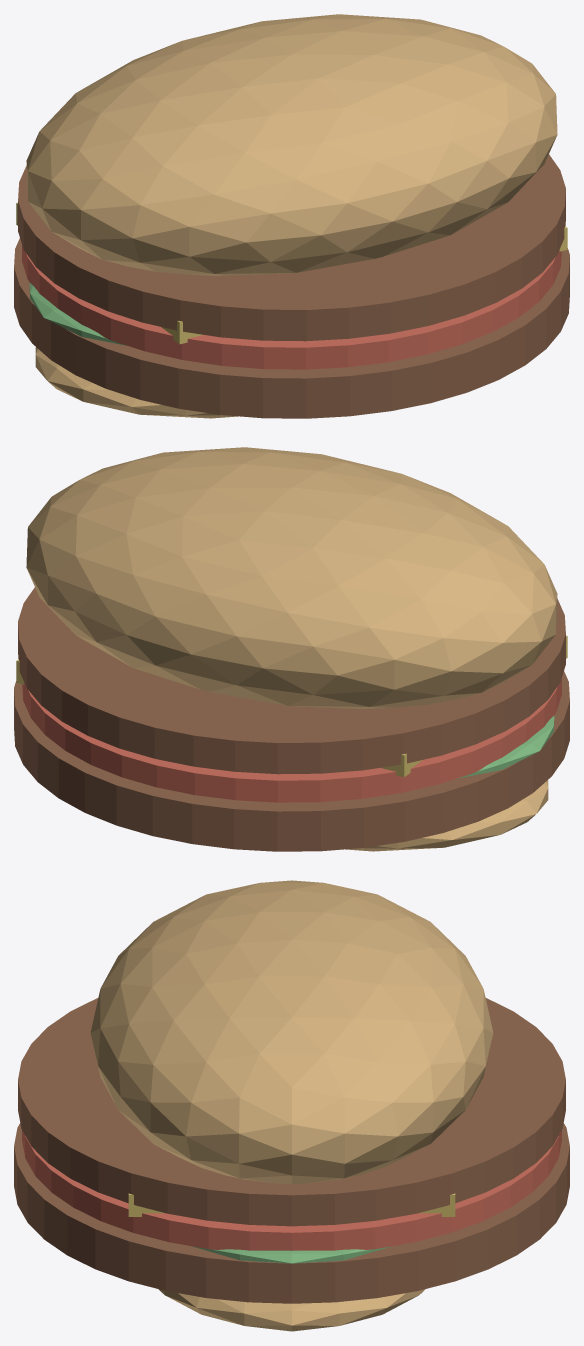
File: burger.glb
3 views of the same model, one above another, from view 1: azimuth 30°, elevation 25°; view 2: azimuth 150°, elevation 25°; view 3: azimuth 270°, elevation 25° (orthographic).
Parts seen in each view (by area): view 1: burger_06, burger_05, burger_01, burger_03, burger_00, burger_02, burger_04; view 2: burger_06, burger_05, burger_01, burger_03, burger_00, burger_02, burger_04; view 3: burger_06, burger_05, burger_01, burger_03, burger_00, burger_02, burger_04.
Boxes of the visible parts, <box> form: burger_06: <box>26,14,557,275</box>; burger_05: <box>18,154,565,341</box>; burger_01: <box>14,238,569,418</box>; burger_03: <box>22,245,561,369</box>; burger_00: <box>35,347,238,418</box>; burger_02: <box>29,282,126,345</box>; burger_04: <box>16,202,567,344</box>; burger_06: <box>26,447,557,708</box>; burger_05: <box>18,587,565,774</box>; burger_01: <box>14,671,569,851</box>; burger_03: <box>22,678,561,802</box>; burger_00: <box>345,780,548,851</box>; burger_02: <box>457,715,554,778</box>; burger_04: <box>16,635,567,777</box>; burger_06: <box>90,880,493,1184</box>; burger_05: <box>18,998,565,1226</box>; burger_01: <box>14,1123,569,1303</box>; burger_03: <box>22,1130,561,1250</box>; burger_00: <box>158,1289,425,1331</box>; burger_02: <box>192,1246,391,1263</box>; burger_04: <box>128,1193,455,1216</box>.
Bounding box in the file's own units: 2.86 × 1.67 × 2.76.
